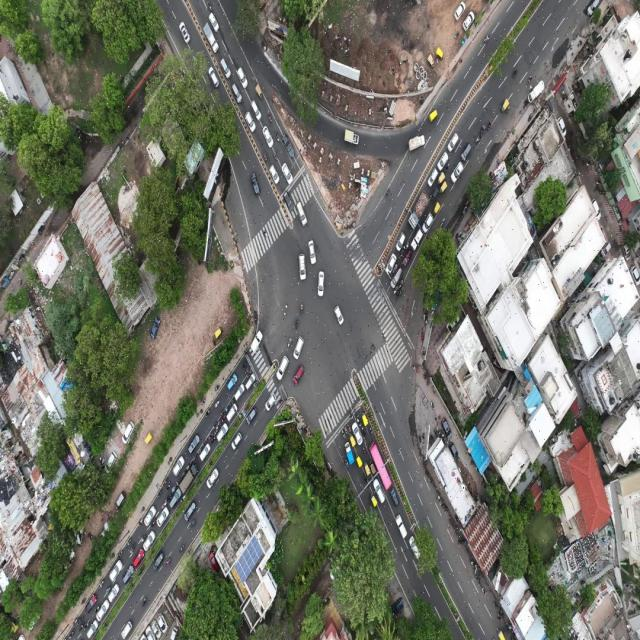3W: (500, 96, 510, 112), (426, 54, 436, 69), (428, 109, 438, 123), (435, 47, 445, 61), (369, 494, 378, 508), (144, 431, 154, 443), (256, 84, 263, 99), (356, 454, 363, 469), (432, 202, 440, 215), (439, 182, 448, 193), (361, 413, 368, 427), (214, 328, 223, 338), (432, 189, 439, 199)
Bus: (369, 440, 392, 490)
Cars: (282, 133, 295, 158), (276, 355, 289, 380), (121, 418, 134, 443), (296, 199, 308, 226), (409, 534, 421, 561), (109, 560, 123, 582), (441, 416, 453, 440), (178, 22, 191, 44), (97, 599, 110, 621), (206, 468, 220, 488), (220, 56, 232, 79), (262, 126, 274, 149), (293, 334, 304, 359), (451, 162, 464, 183), (462, 12, 476, 31), (281, 163, 293, 185), (283, 191, 295, 213), (106, 448, 117, 472), (390, 268, 403, 288), (149, 317, 160, 340), (145, 505, 157, 526), (183, 502, 196, 521), (157, 508, 170, 527), (143, 531, 156, 550), (86, 620, 99, 639), (453, 2, 466, 21), (236, 68, 248, 88), (152, 551, 164, 571), (169, 488, 181, 508), (352, 421, 362, 445), (556, 116, 568, 136), (385, 253, 396, 274), (269, 165, 281, 184), (246, 407, 258, 426), (108, 583, 120, 602), (85, 594, 97, 613), (308, 240, 317, 265), (245, 113, 256, 133), (250, 174, 260, 196), (114, 490, 125, 510), (395, 231, 406, 251), (293, 366, 305, 384), (188, 435, 200, 453), (427, 169, 439, 187), (437, 152, 449, 170), (447, 134, 459, 152), (334, 305, 344, 326), (227, 403, 238, 422), (299, 254, 307, 280), (225, 374, 238, 390), (264, 394, 276, 411), (209, 67, 219, 87), (390, 486, 399, 508), (122, 620, 132, 639), (461, 143, 471, 162), (231, 433, 242, 450), (133, 550, 144, 567), (123, 566, 134, 583), (449, 442, 459, 460), (234, 384, 245, 400), (402, 250, 412, 267), (318, 271, 324, 296)
LCV: (203, 23, 219, 55), (408, 133, 426, 150), (251, 330, 263, 353), (411, 228, 423, 251), (344, 128, 359, 145), (344, 443, 354, 466)
M2W: (513, 65, 519, 78), (483, 35, 492, 43), (99, 579, 106, 589), (453, 30, 460, 39), (267, 113, 273, 123), (70, 629, 76, 639), (126, 538, 133, 546), (362, 443, 366, 457), (79, 622, 85, 631), (475, 134, 481, 143), (273, 151, 278, 161), (275, 132, 280, 142), (369, 425, 374, 435), (156, 490, 163, 497), (295, 317, 299, 329), (242, 360, 248, 368), (214, 400, 220, 408), (73, 617, 79, 625), (384, 189, 390, 197), (441, 218, 447, 226), (211, 337, 216, 346), (142, 597, 147, 606), (396, 290, 401, 299), (192, 454, 198, 461), (161, 500, 167, 507), (190, 519, 196, 526), (179, 545, 185, 552), (118, 551, 124, 558), (288, 337, 292, 347), (341, 429, 345, 439), (488, 120, 492, 130), (264, 153, 268, 162), (221, 416, 227, 422), (215, 385, 221, 391), (166, 559, 172, 565), (138, 519, 144, 525), (347, 424, 351, 433), (355, 408, 359, 417), (404, 243, 410, 249), (482, 123, 486, 132), (344, 426, 348, 434), (364, 475, 368, 483), (300, 305, 303, 315), (245, 368, 250, 374), (163, 479, 168, 485), (101, 464, 105, 471), (206, 410, 210, 417), (279, 397, 283, 404), (350, 412, 353, 421), (254, 381, 259, 386), (264, 231, 268, 237), (202, 399, 206, 405), (217, 420, 221, 426), (63, 636, 69, 640), (246, 373, 251, 377), (220, 411, 224, 416), (205, 438, 208, 444), (214, 423, 218, 427), (211, 439, 215, 443), (211, 432, 214, 436), (213, 435, 217, 438), (202, 442, 205, 446), (102, 459, 104, 464), (216, 427, 219, 430)
MAV: (409, 190, 430, 229), (395, 513, 407, 539)
Truck: (180, 460, 199, 492), (526, 81, 548, 103)
